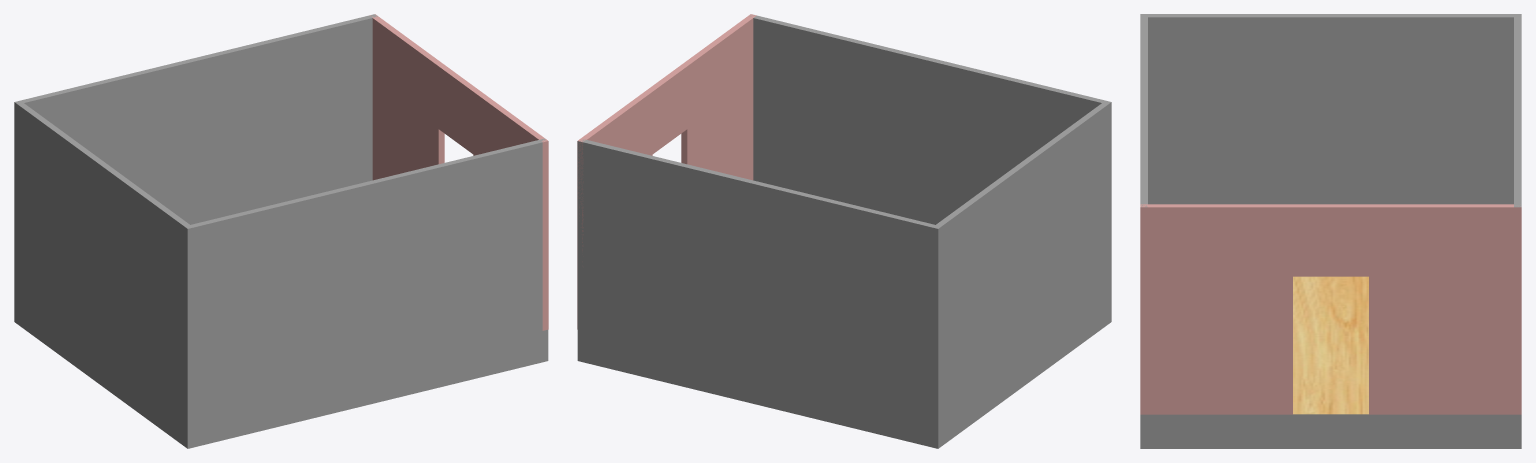
Rendered from Room1.fbx.
3 renders of one model, left to right at view 1: azimuth 30°, elevation 25°; view 2: azimuth 150°, elevation 25°; view 3: azimuth 270°, elevation 25°, orthographic. The views are drawn at different scales.
Visible parts, largest first — view 1: pCube30, pCube9, pCube21, pCube3, polySurface7; view 2: pCube9, pCube30, pCube21, pCube3, polySurface7; view 3: polySurface7, pCube21, pCube3, pCube9, pCube30.
Part boxes in pixels (x1,y1,x2,y2): pCube30: [184, 138, 545, 416]; pCube9: [14, 14, 377, 292]; pCube21: [14, 100, 193, 417]; pCube3: [14, 291, 548, 448]; polySurface7: [369, 14, 548, 330]; pCube9: [577, 139, 941, 417]; pCube30: [749, 14, 1111, 288]; pCube21: [932, 100, 1111, 417]; pCube3: [577, 291, 1111, 448]; polySurface7: [577, 14, 756, 329]; polySurface7: [1140, 204, 1521, 414]; pCube21: [1140, 14, 1518, 204]; pCube3: [1140, 276, 1521, 448]; pCube9: [1514, 14, 1521, 207]; pCube30: [1140, 14, 1147, 207].
Size of the model in its own units: 6.01 by 3.5 by 5.
